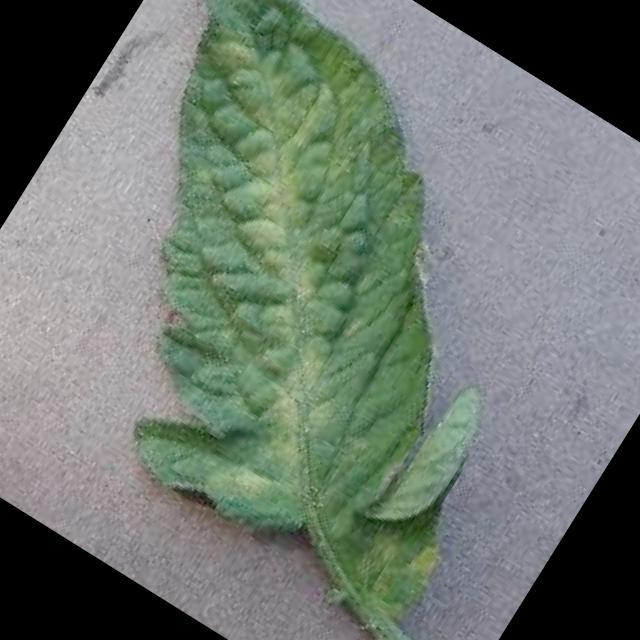Tomato mold leaf: (0, 0, 580, 583)
